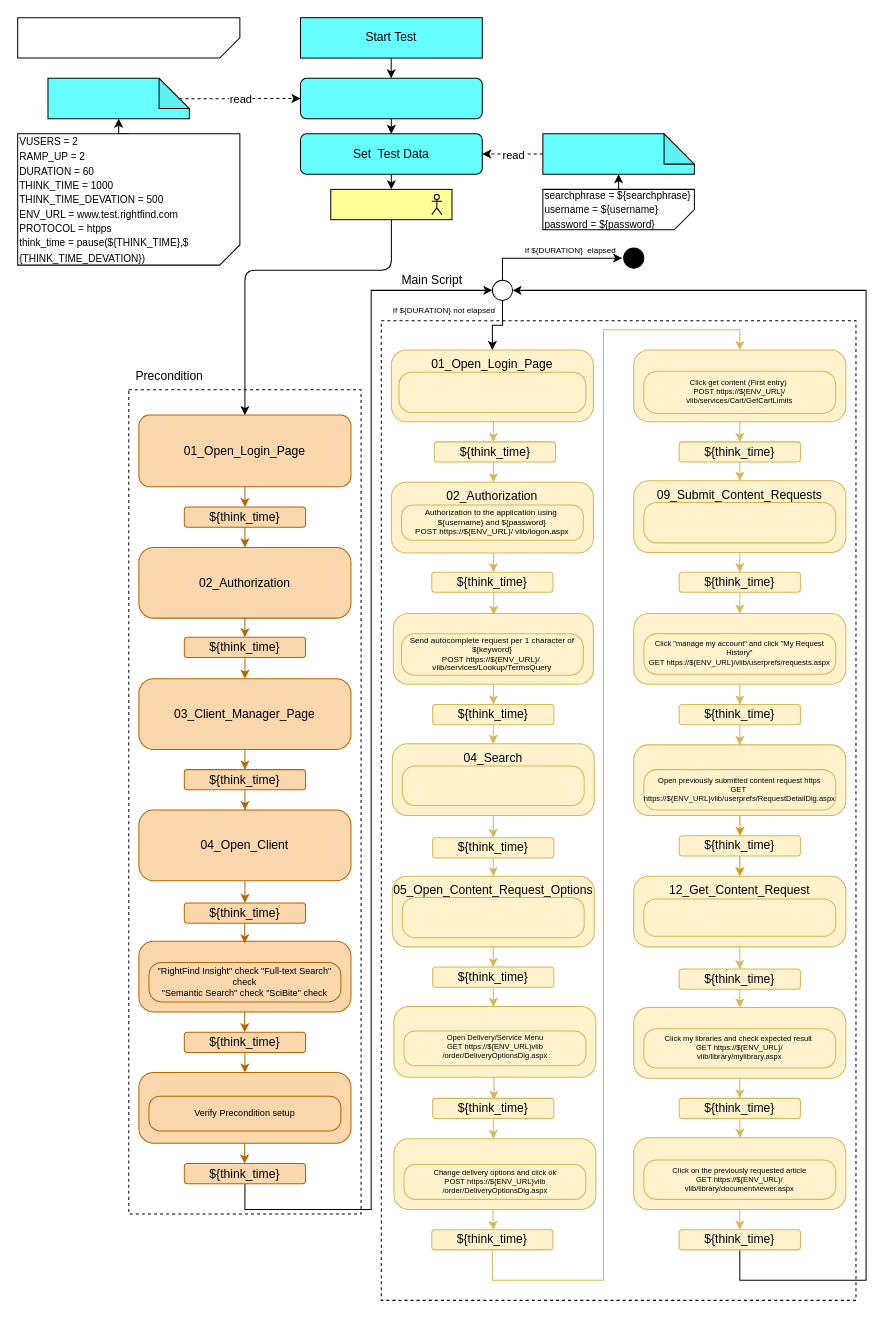
Image size: 892x1318. Some labels were removed from this diagram. Each missing label, with the box of its shape:
03_Autocomplete: (392, 613, 593, 684)
05_Client_Update: (138, 940, 351, 1012)
06_Open_Client_Verify: (138, 1072, 351, 1143)
06_Open_Delivery/Service_Options: (393, 1005, 596, 1077)
07_Change_Delivery/Service_Options: (393, 1138, 596, 1209)
08_Get_Content: (633, 349, 846, 422)
10_Open_My_Requests_History: (633, 613, 846, 684)
11_Open_Content_Request: (633, 744, 846, 816)
13_Open_Personal_Library: (633, 1006, 846, 1078)
14_Open_The_Article: (633, 1137, 846, 1209)
6_RFE_Multi_user_work: (17, 17, 240, 58)
Click any article title GET https://${ENV_URL} vlib/order/orderform.aspx: (401, 896, 584, 938)
Click get it again here GET https://${ENV_URL}/ vlib/order/instantorderview.aspx: (643, 898, 836, 936)
Click submit content requests POST https://${ENV_URL}/ vlib/order/Cart.aspx: (643, 501, 836, 543)
Load Model: (47, 77, 189, 119)
Open application main page - GET https://${ENV_URL}/: (398, 371, 586, 413)
Search for specific ${keyword} GET https://${ENV_URL}/vlib/order/ordersearch.apx: (401, 765, 584, 805)
Set Load: (299, 77, 482, 119)
Test Data: (542, 133, 694, 174)
vUser: (330, 188, 452, 220)
